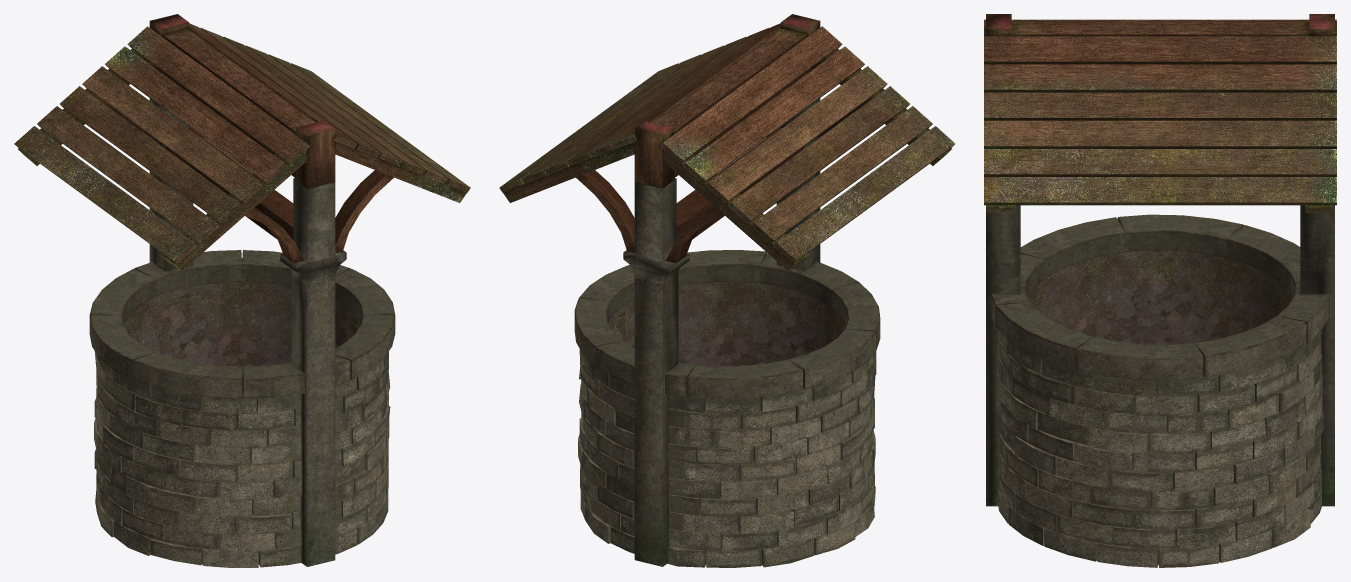
The model's file is well.glb.
The picture shows the model from 3 angles, left to right: view 1: azimuth 30°, elevation 25°; view 2: azimuth 150°, elevation 25°; view 3: azimuth 270°, elevation 25°; orthographic projection. The views are drawn at different scales.
Parts seen in each view (by area): view 1: defaultMaterial (×7); view 2: defaultMaterial (×7); view 3: defaultMaterial (×7).
Boxes of the visible parts, left/top/right/bottom form: defaultMaterial (×7): left=14, top=14, right=470, bottom=567; defaultMaterial (×7): left=499, top=14, right=955, bottom=567; defaultMaterial (×7): left=984, top=14, right=1336, bottom=567.
Size of the model in its own units: 207 by 288 by 192.
7 materials, 7 textured.
